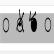correct: (29, 10, 38, 34)
not correct: (16, 8, 26, 35)
